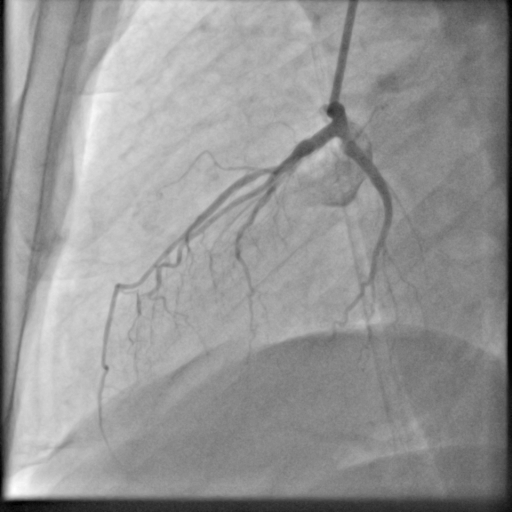Stenosis: (275, 150, 298, 172)
